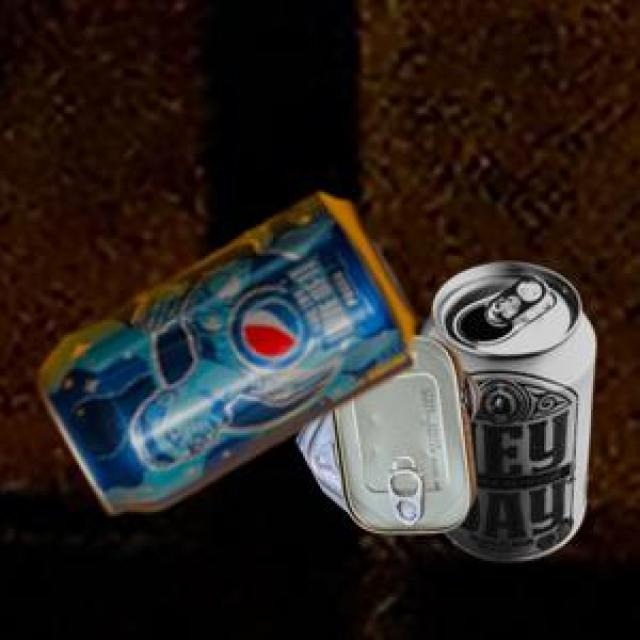logam: (37, 191, 411, 509), (417, 259, 592, 560), (293, 332, 477, 530)
